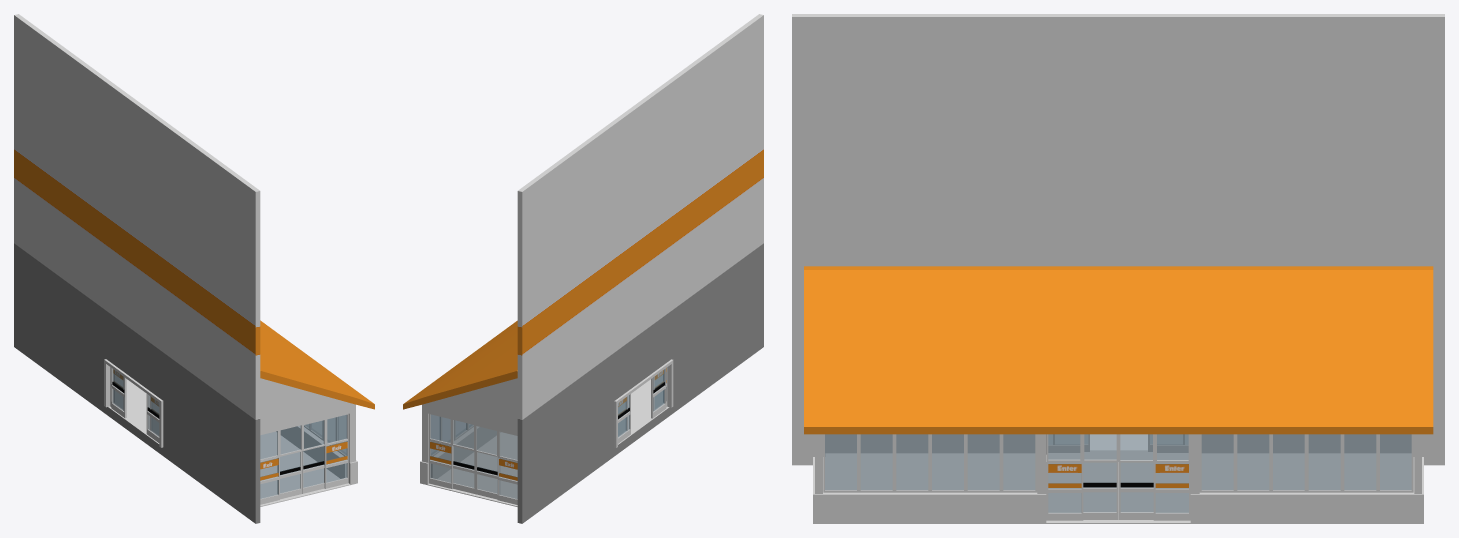
The model's file is DadDepotEntrance.fbx.
3 renders of one model, left to right at view 1: azimuth 30°, elevation 25°; view 2: azimuth 150°, elevation 25°; view 3: azimuth 270°, elevation 25°, orthographic. The views are drawn at different scales.
Parts seen in each view (by area): view 1: DadDepotFront; view 2: DadDepotFront; view 3: DadDepotFront.
Part boxes in pixels (bbox=[...]): DadDepotFront: bbox=[14, 14, 374, 523]; DadDepotFront: bbox=[403, 14, 763, 523]; DadDepotFront: bbox=[792, 14, 1444, 523].
Bounding box in the file's own units: 8.99 × 22.72 × 29.97.
